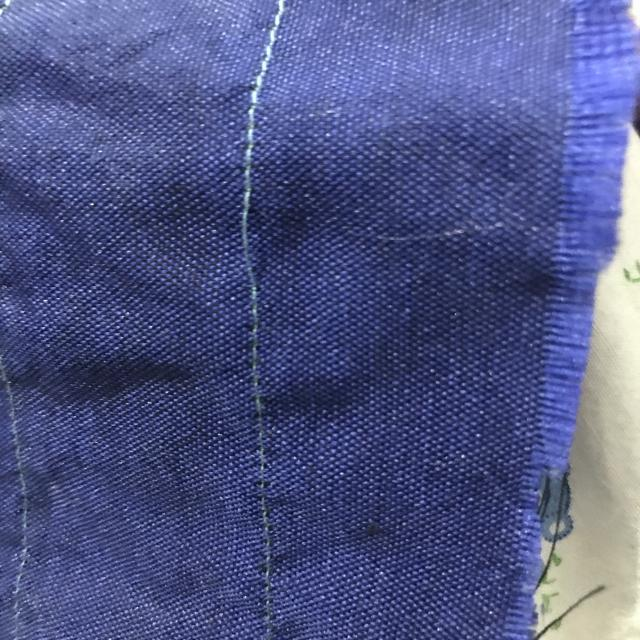skip: (200, 176, 300, 303)
